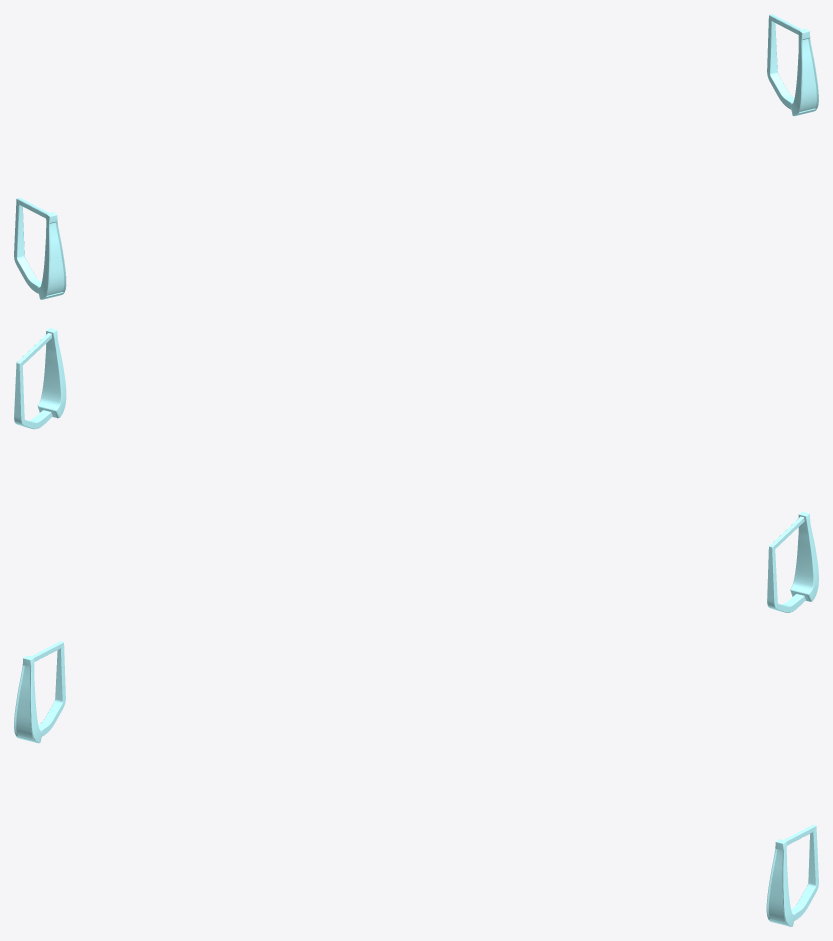
The model's file is jewelry_hoopdrop_silver.glb.
3 renders of one model, top to bottom at view 1: azimuth 30°, elevation 25°; view 2: azimuth 150°, elevation 25°; view 3: azimuth 330°, elevation 25°, orthographic.
Parts seen in each view (by area): view 1: jewelry_hoopdrop_gold; view 2: jewelry_hoopdrop_gold; view 3: jewelry_hoopdrop_gold.
Part boxes in pixels (bbox=[...]): jewelry_hoopdrop_gold: bbox=[14, 14, 818, 299]; jewelry_hoopdrop_gold: bbox=[14, 328, 818, 612]; jewelry_hoopdrop_gold: bbox=[14, 641, 818, 926].
Size of the model in its own units: 0.3441 by 0.0366 by 0.0304.
